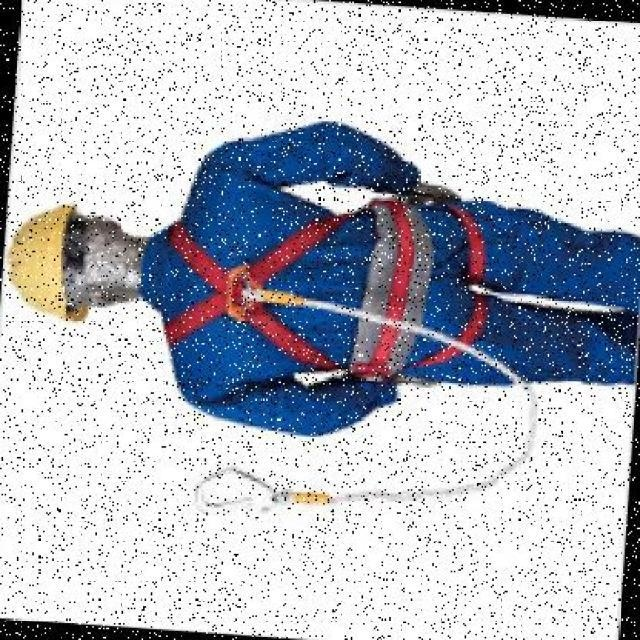Arnes_seguridad: (154, 175, 500, 400)
